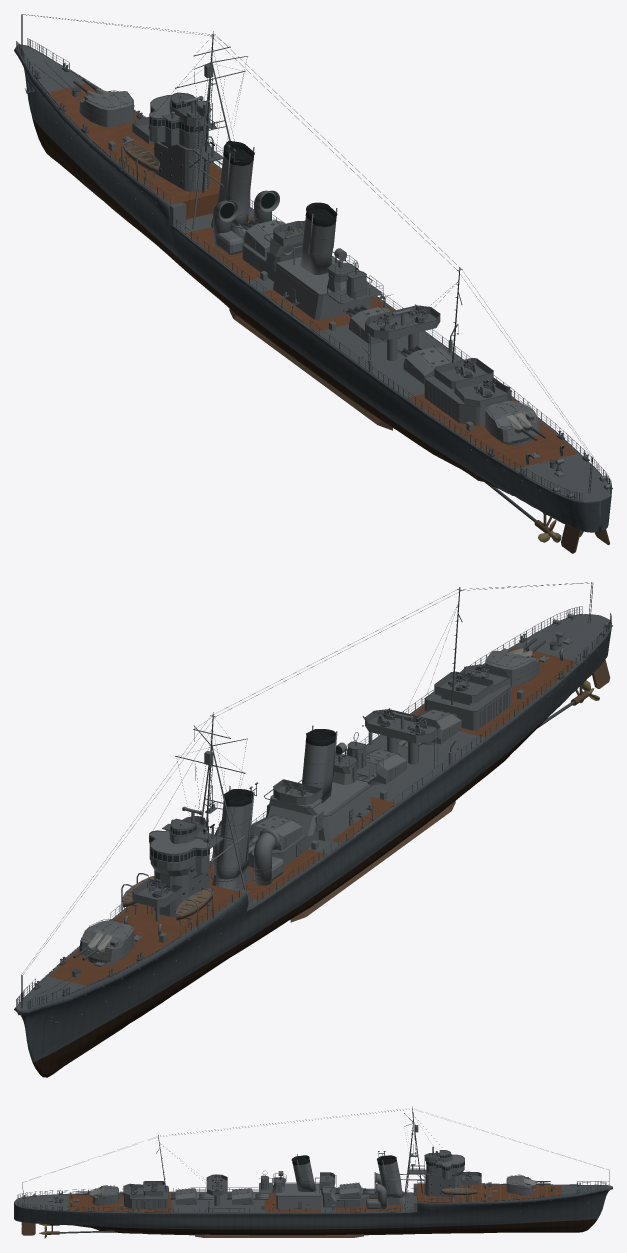
File: fubuki.glb
The picture shows the model from 3 angles, top to bottom: view 1: azimuth 30°, elevation 25°; view 2: azimuth 150°, elevation 25°; view 3: azimuth 270°, elevation 25°; orthographic projection. The views are drawn at different scales.
Parts seen in each view (by area): view 1: hull.envelope, deck.mesh, aft-uptake.mesh, rails.mesh, hull.mesh, after-funnel.mesh, forward-funnel.mesh, foremast.mesh, after-deckhouse.mesh, fore-cowl.mesh, bridge-lower.mesh, mid-aa.mesh (+9 smaller); view 2: hull.envelope, deck.mesh, rails.mesh, forward-funnel.mesh, wheelhouse.mesh, hull.mesh, aft-uptake.mesh, after-deckhouse.mesh, after-funnel.mesh, mid-aa.mesh, foremast.mesh, main-forward.yaw.mesh (+13 smaller); view 3: hull.envelope, deck.mesh, hull.mesh, rails.mesh, aft-uptake.mesh, forward-funnel.mesh, after-deckhouse.mesh, after-funnel.mesh, bridge-lower.mesh, wheelhouse.mesh, foremast.mesh, fore-cowl.mesh (+14 smaller).
Boxes of the visible parts, left/top/right/bottom form: hull.envelope: left=14, top=48, right=611, bottom=532; deck.mesh: left=15, top=44, right=611, bottom=501; aft-uptake.mesh: left=272, top=251, right=372, bottom=320; rails.mesh: left=16, top=38, right=611, bottom=500; hull.mesh: left=16, top=45, right=611, bottom=501; after-funnel.mesh: left=300, top=202, right=337, bottom=274; forward-funnel.mesh: left=217, top=140, right=254, bottom=225; foremast.mesh: left=175, top=31, right=247, bottom=229; after-deckhouse.mesh: left=424, top=375, right=511, bottom=425; fore-cowl.mesh: left=213, top=190, right=279, bottom=254; bridge-lower.mesh: left=154, top=140, right=209, bottom=191; mid-aa.mesh: left=364, top=305, right=440, bottom=363; hull.envelope: left=14, top=627, right=611, bottom=1077; deck.mesh: left=15, top=614, right=611, bottom=1010; rails.mesh: left=16, top=606, right=611, bottom=1008; forward-funnel.mesh: left=214, top=782, right=258, bottom=879; wheelhouse.mesh: left=149, top=824, right=209, bottom=876; hull.mesh: left=17, top=613, right=610, bottom=1015; aft-uptake.mesh: left=298, top=779, right=372, bottom=841; after-deckhouse.mesh: left=424, top=671, right=511, bottom=730; after-funnel.mesh: left=302, top=725, right=337, bottom=803; mid-aa.mesh: left=364, top=709, right=440, bottom=768; foremast.mesh: left=175, top=712, right=247, bottom=889; main-forward.yaw.mesh: left=79, top=918, right=134, bottom=962; hull.envelope: left=14, top=1187, right=612, bottom=1235; deck.mesh: left=14, top=1182, right=612, bottom=1212; hull.mesh: left=17, top=1183, right=608, bottom=1237; rails.mesh: left=17, top=1180, right=608, bottom=1212; aft-uptake.mesh: left=276, top=1182, right=323, bottom=1209; forward-funnel.mesh: left=377, top=1151, right=404, bottom=1197; after-deckhouse.mesh: left=123, top=1185, right=168, bottom=1208; after-funnel.mesh: left=291, top=1154, right=316, bottom=1191; bridge-lower.mesh: left=425, top=1170, right=461, bottom=1197; wheelhouse.mesh: left=426, top=1154, right=464, bottom=1179; foremast.mesh: left=390, top=1106, right=425, bottom=1209; fore-cowl.mesh: left=366, top=1172, right=387, bottom=1209.
Bounding box in the file's own units: 11.38 × 27.98 × 119.
13 materials, 8 textured.
